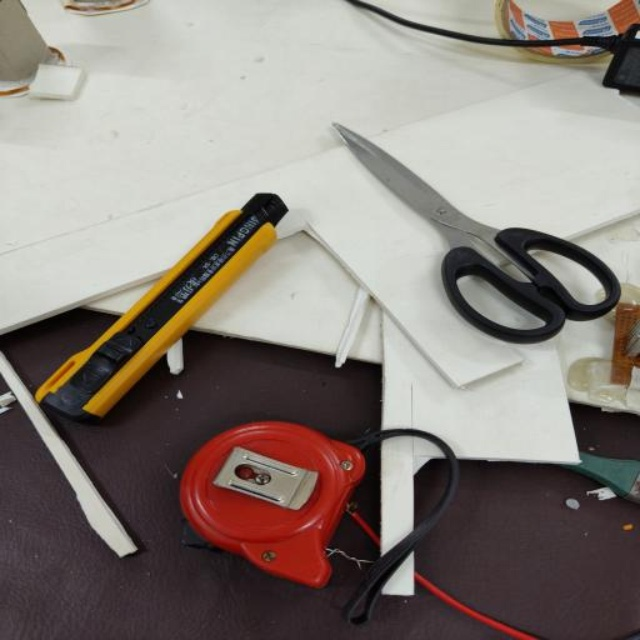scissor: (325, 109, 625, 346)
